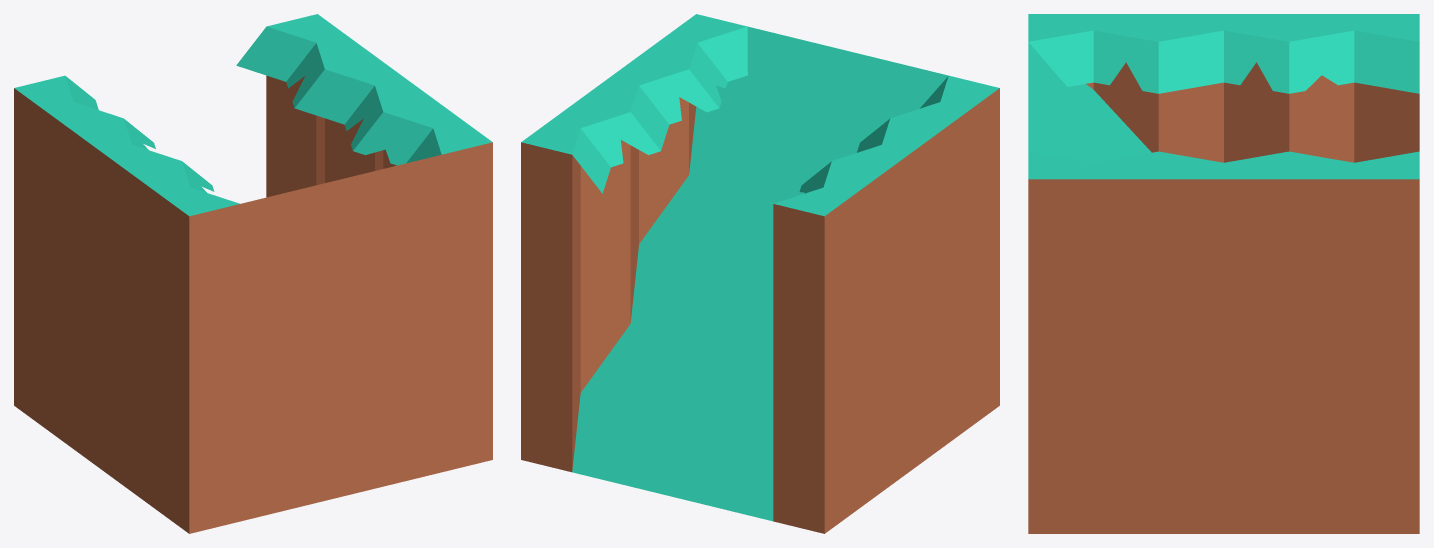
Rendered from cliff_blockSlopeWalls_rock.glb.
The picture shows the model from 3 angles, left to right: view 1: azimuth 30°, elevation 25°; view 2: azimuth 150°, elevation 25°; view 3: azimuth 270°, elevation 25°; orthographic projection. The views are drawn at different scales.
Visible parts, largest first — view 1: cliff_blockSlopeWalls_rock; view 2: cliff_blockSlopeWalls_rock; view 3: cliff_blockSlopeWalls_rock.
Boxes of the visible parts, x1,y1,x2,y2 form: cliff_blockSlopeWalls_rock: (14,14,492,533); cliff_blockSlopeWalls_rock: (521,14,999,533); cliff_blockSlopeWalls_rock: (1028,14,1419,533).
Bounding box in the file's own units: 1 × 1 × 1.
